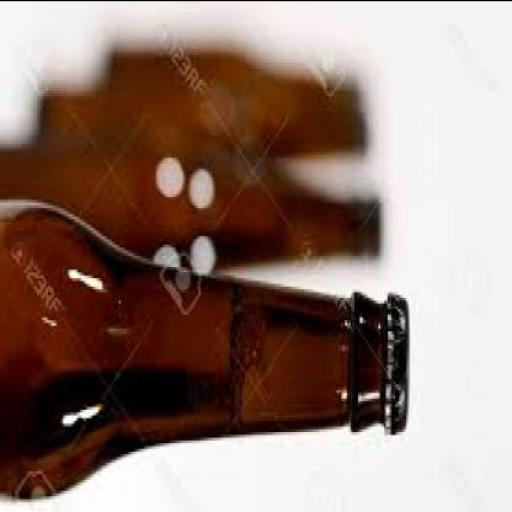glass: (2, 199, 388, 495), (2, 134, 375, 266), (115, 50, 367, 148)
metal: (388, 290, 414, 431)
